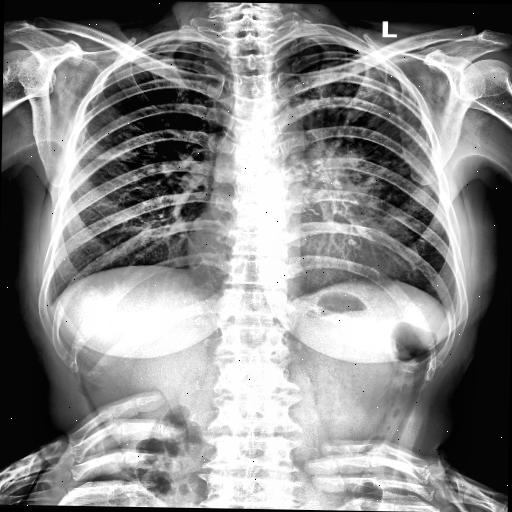13- Pulmonary fibrosis: (312, 81, 417, 198), (78, 139, 138, 160)
6- Infiltration: (298, 66, 445, 228), (312, 81, 417, 198), (92, 116, 158, 162), (366, 76, 402, 126), (78, 139, 138, 160)
7- Lung Opacity: (288, 138, 378, 246), (297, 144, 375, 228), (366, 76, 402, 126)
9- Other lesion: (312, 81, 417, 198), (288, 138, 378, 246)
